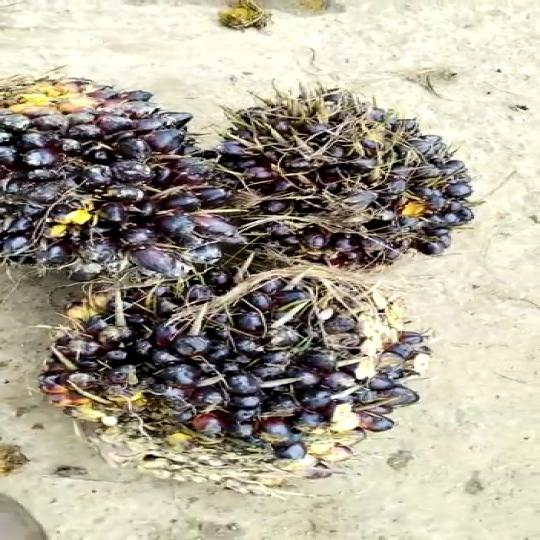mentah: (46, 245, 436, 485), (194, 80, 490, 267), (0, 65, 252, 271)
